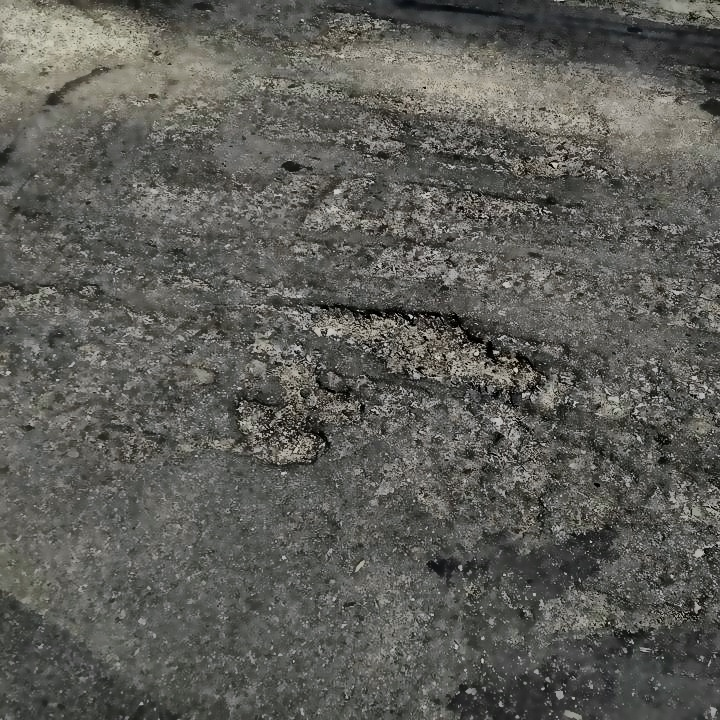pothole: (292, 300, 548, 395), (232, 395, 332, 467)
